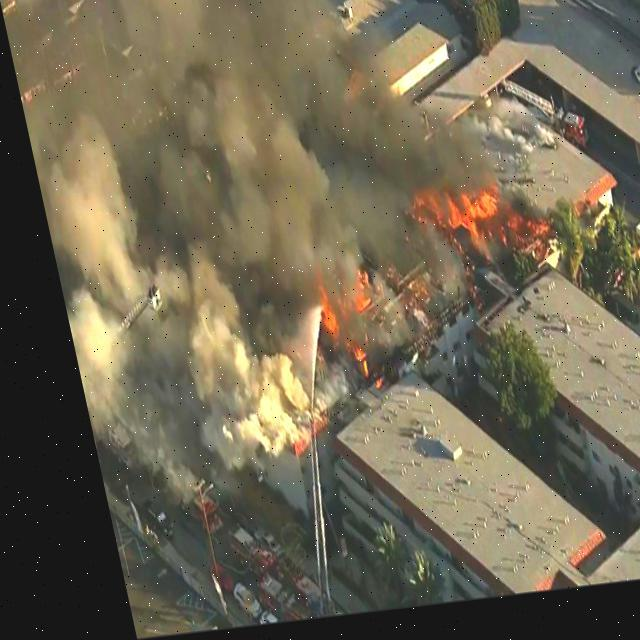Fire: (398, 190, 477, 247), (506, 222, 540, 264), (303, 306, 326, 342), (328, 295, 357, 319), (334, 353, 354, 385)
